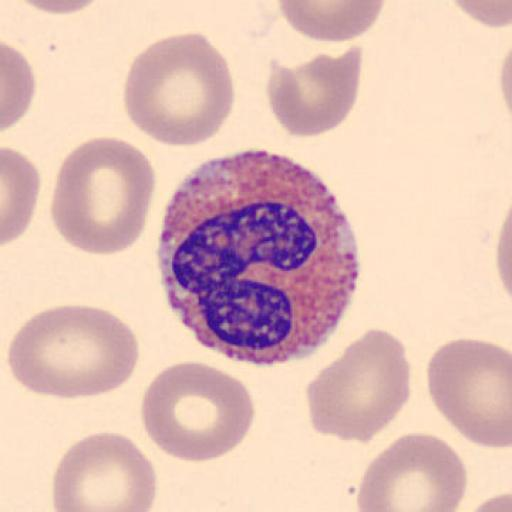RBC: (122, 31, 236, 148), (50, 135, 158, 257), (6, 303, 140, 401), (304, 327, 412, 446), (140, 360, 258, 464), (425, 335, 512, 451), (354, 431, 468, 512), (266, 47, 363, 139), (51, 430, 159, 512), (276, 0, 387, 42), (2, 145, 42, 247), (2, 40, 36, 133), (493, 199, 512, 306), (448, 0, 512, 30), (495, 218, 512, 301), (499, 24, 512, 128), (16, 1, 106, 16), (498, 41, 512, 120), (469, 489, 512, 512)
WBC: (158, 153, 364, 366)
